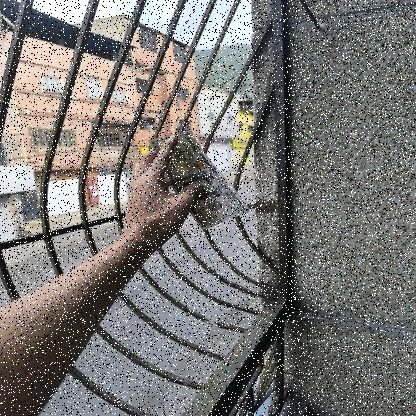one_hundred-front: (147, 128, 251, 229)
